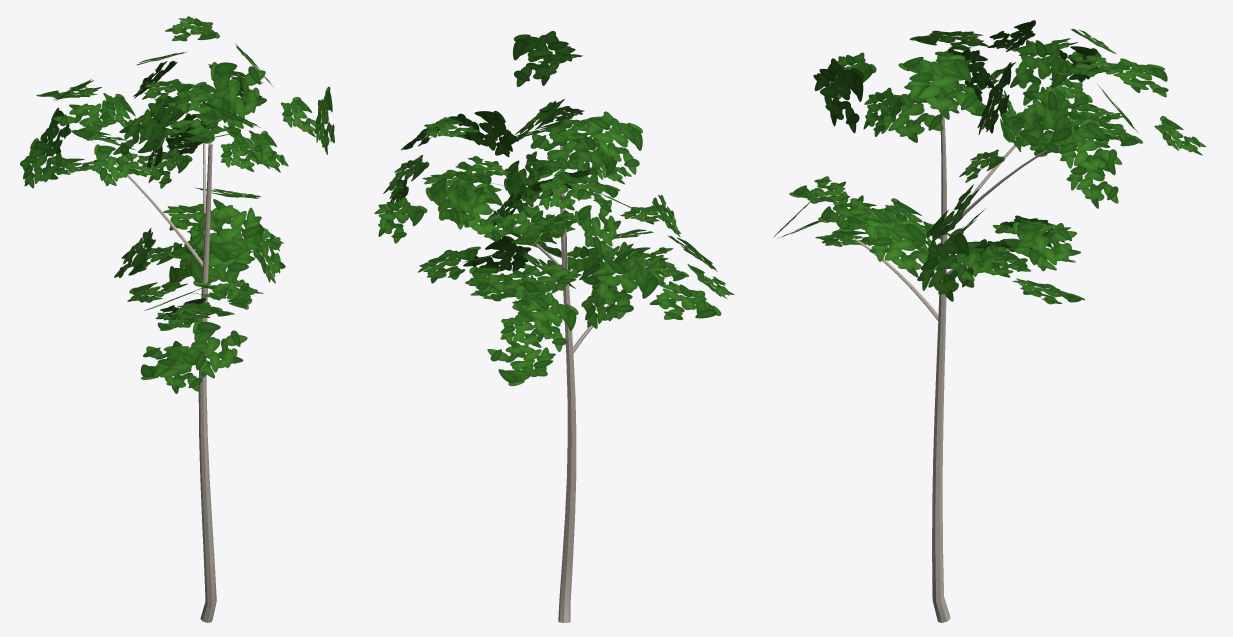
File: arvore_fina_b.glb
3 renders of one model, left to right at view 1: azimuth 30°, elevation 25°; view 2: azimuth 150°, elevation 25°; view 3: azimuth 270°, elevation 25°, orthographic. The views are drawn at different scales.
Visible parts, largest first — view 1: arvore_fina_b; view 2: arvore_fina_b; view 3: arvore_fina_b.
Part boxes in pixels (box(x1,y1,x2,y2)): arvore_fina_b: box(20, 16, 334, 622); arvore_fina_b: box(374, 31, 734, 622); arvore_fina_b: box(774, 20, 1205, 622).
Bounding box in the file's own units: 4.34 × 8.63 × 5.69.
2 materials, 1 textured.
